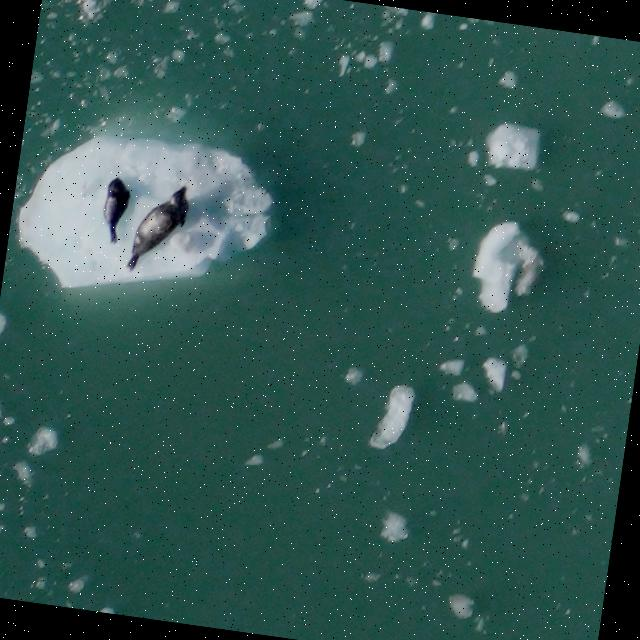seal: (121, 176, 198, 283), (93, 170, 139, 249)
